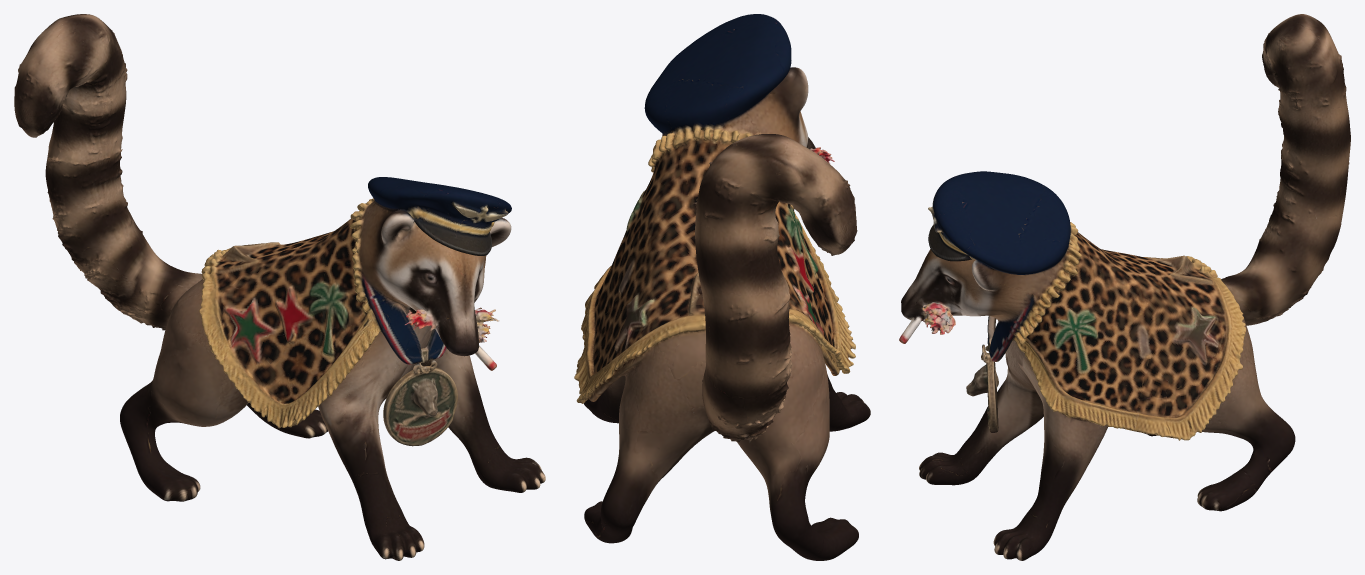
The model's file is quati.glb.
3 renders of one model, left to right at view 1: azimuth 30°, elevation 25°; view 2: azimuth 150°, elevation 25°; view 3: azimuth 270°, elevation 25°, orthographic. The views are drawn at different scales.
Size of the model in its own units: 1.73 by 1.85 by 1.9.
Materials: 1 (1 with a texture image).
